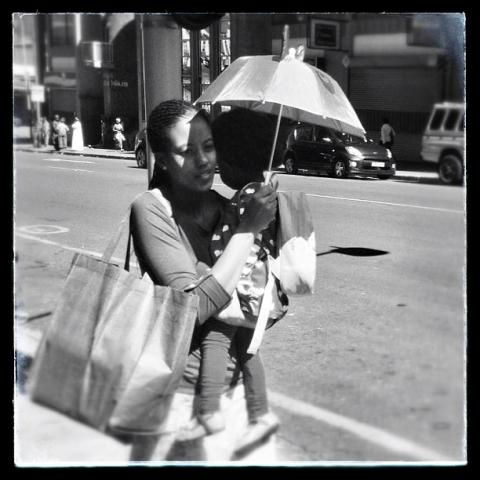car: (283, 125, 397, 180), (420, 102, 461, 190), (134, 126, 146, 168)
truck: (421, 104, 465, 185)
